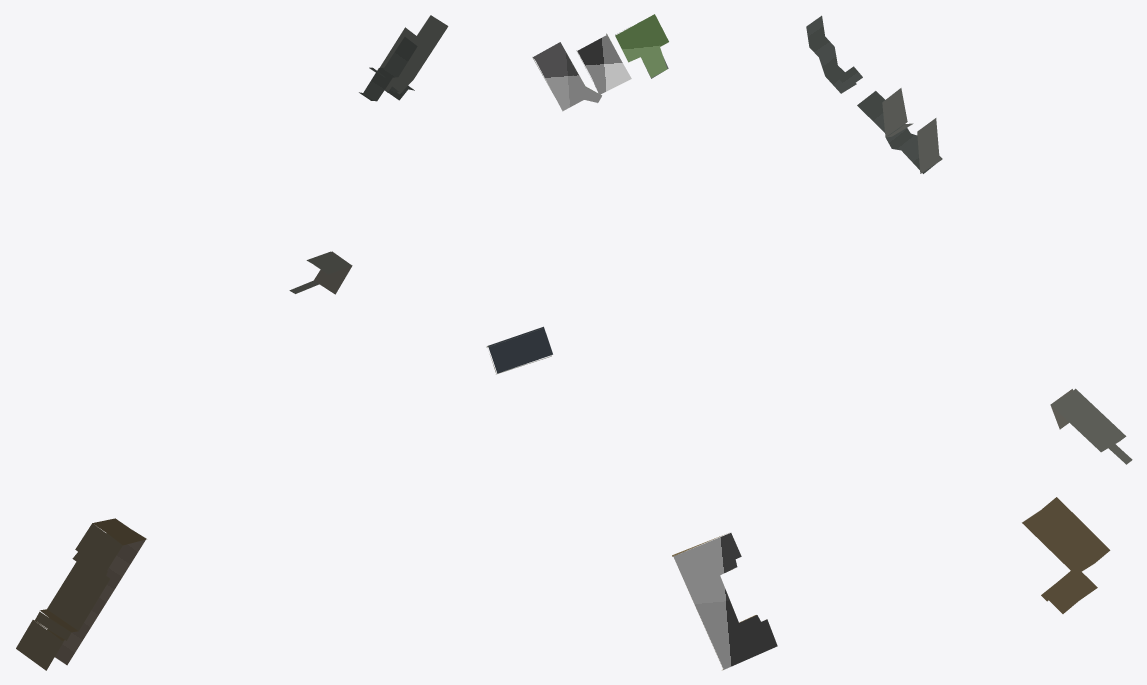
Rendered from tile_LOD3_r7_c1.glb.
3 renders of one model, left to right at view 1: azimuth 30°, elevation 25°; view 2: azimuth 150°, elevation 25°; view 3: azimuth 270°, elevation 25°, orthographic. The views are drawn at different scales.
Size of the model in its own units: 78 by 134 by 51.5.
16 materials, 9 textured.
